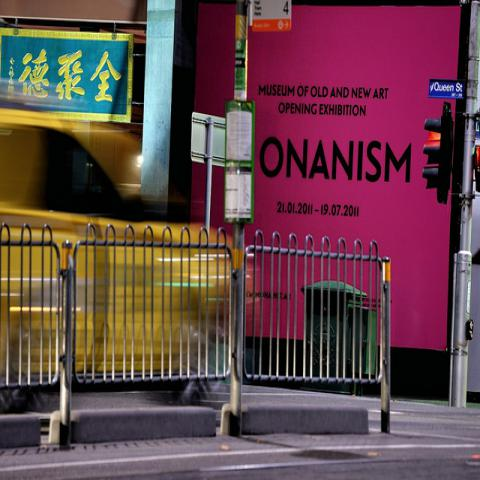car: (0, 99, 261, 413)
